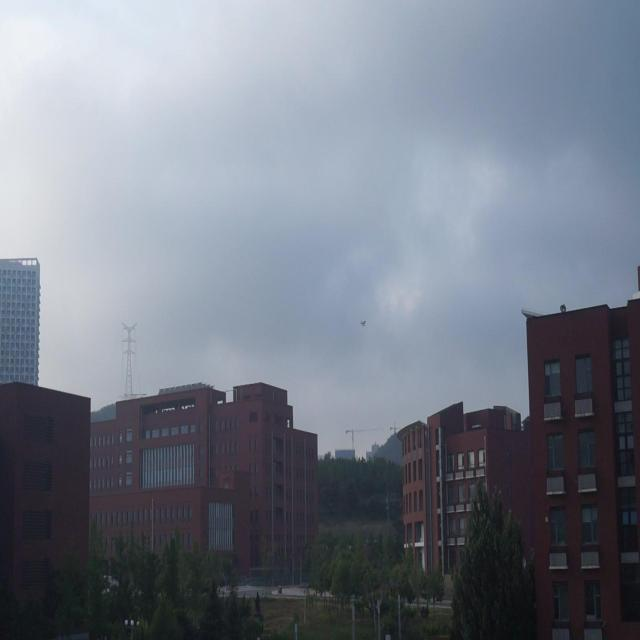drone: (358, 314, 368, 330)
